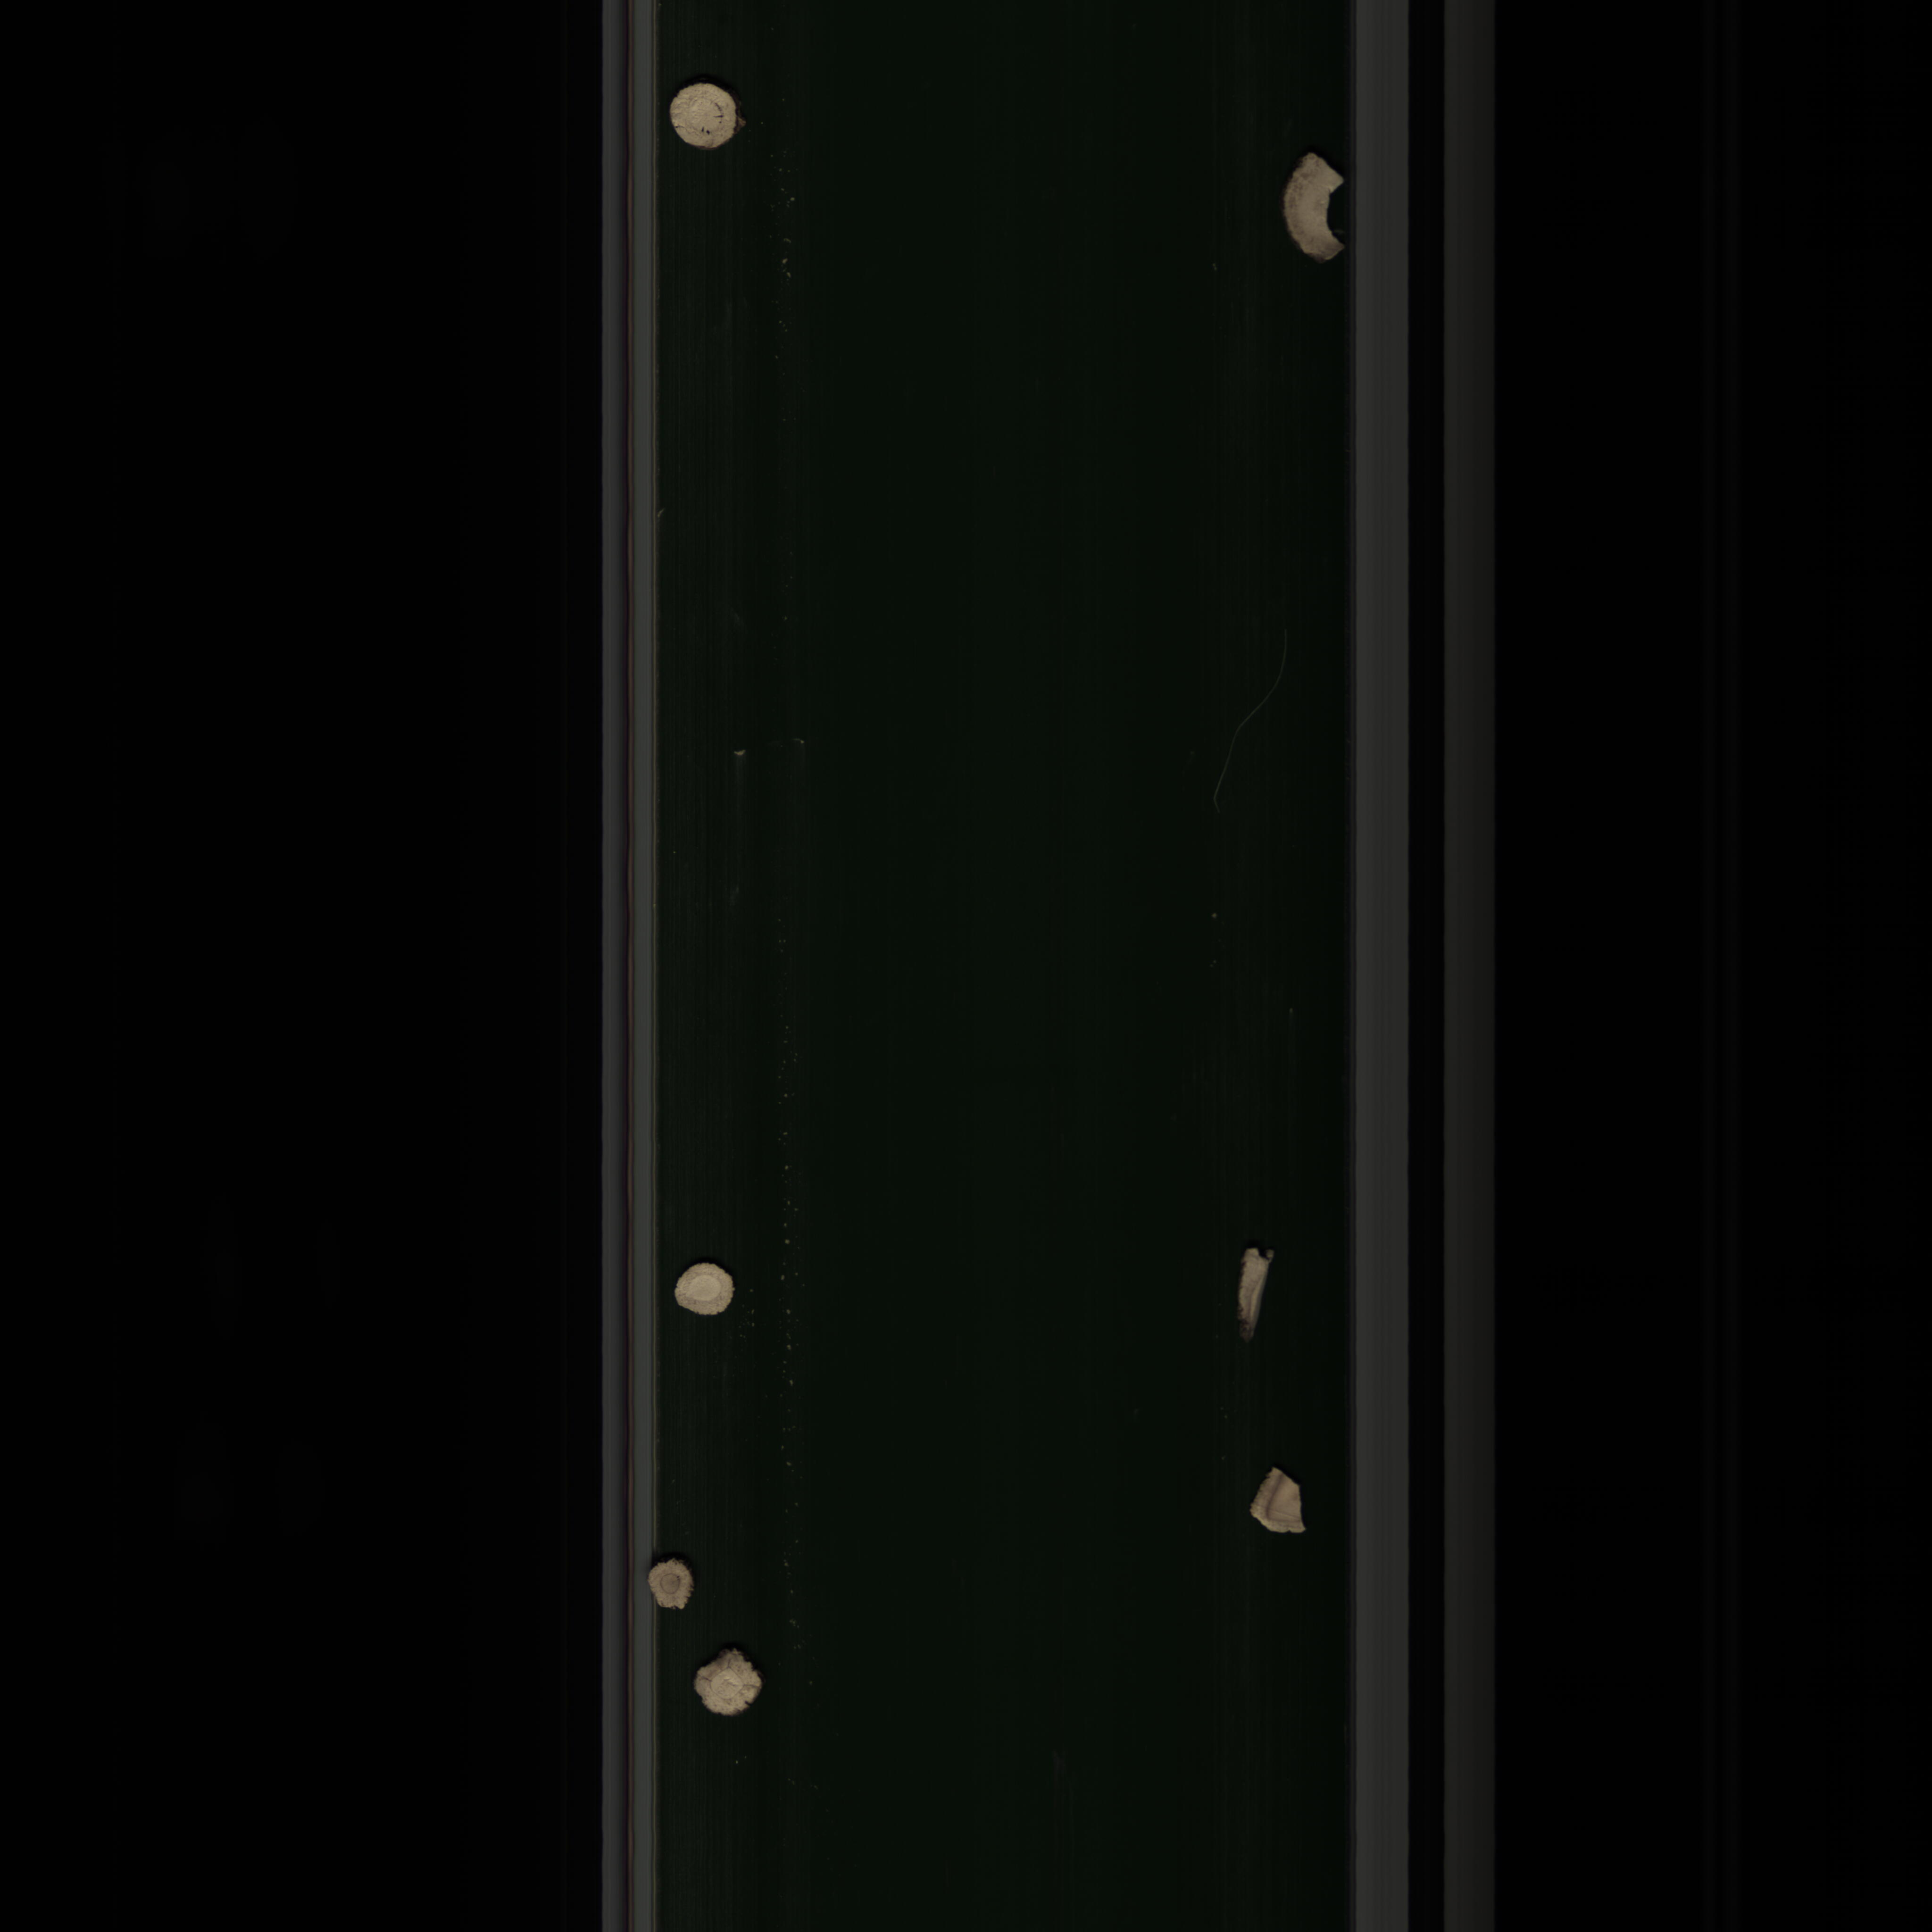bark: (1233, 1237, 1290, 1352)
debris: (1277, 142, 1357, 269), (1238, 1461, 1325, 1552)
moldy: (637, 1553, 718, 1624)
